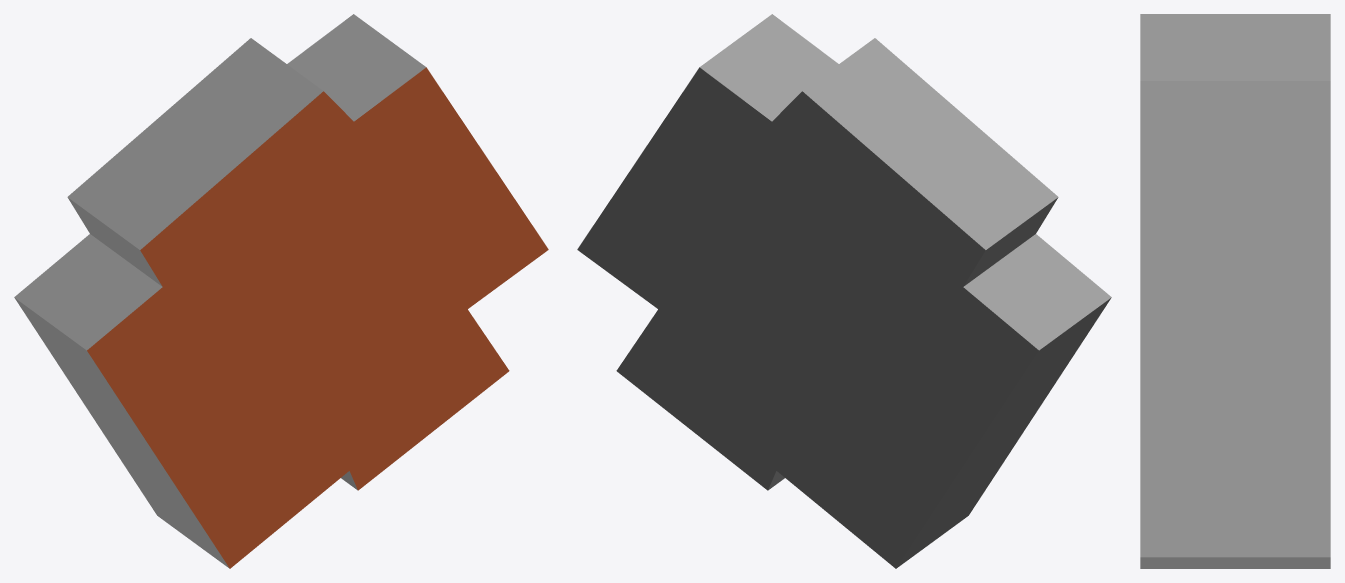
The model's file is construction_2807_assumed_A_Casa_h6m.obj.
3 views of the same model, side by side, from view 1: azimuth 30°, elevation 25°; view 2: azimuth 150°, elevation 25°; view 3: azimuth 270°, elevation 25° (orthographic). The views are drawn at different scales.
Visible parts, largest first — view 1: construction_2807_assumed_A_Casa; view 2: construction_2807_assumed_A_Casa; view 3: construction_2807_assumed_A_Casa.
Boxes of the visible parts, bbox=[...] form: construction_2807_assumed_A_Casa: bbox=[14, 14, 548, 568]; construction_2807_assumed_A_Casa: bbox=[577, 14, 1111, 568]; construction_2807_assumed_A_Casa: bbox=[1140, 14, 1330, 568].
Size of the model in its own units: 21.99 by 20.7 by 6.
